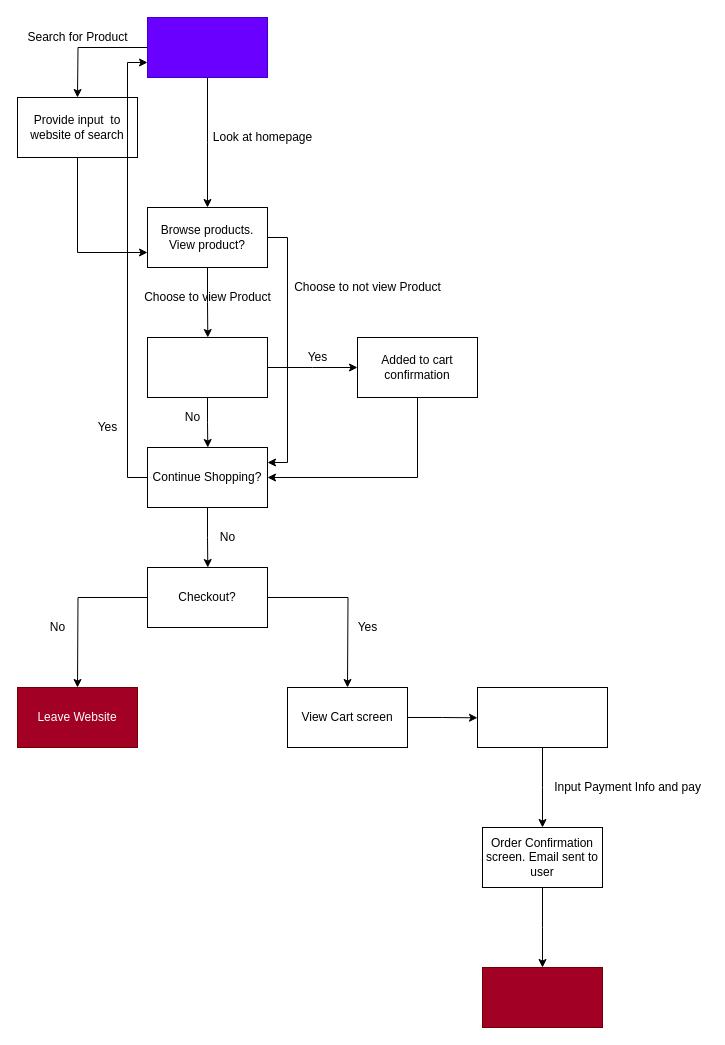
This 725x1045 diagram has some shape labels left out. The shapes that lost their labels are listed below. From the top down, each one's centre as x and y in pixels, then its label:
(207,47): Enter Website
(207,367): Product Webpage opens. Add item to cart?
(542,717): View Payment screen
(542,997): User Leaves Website
